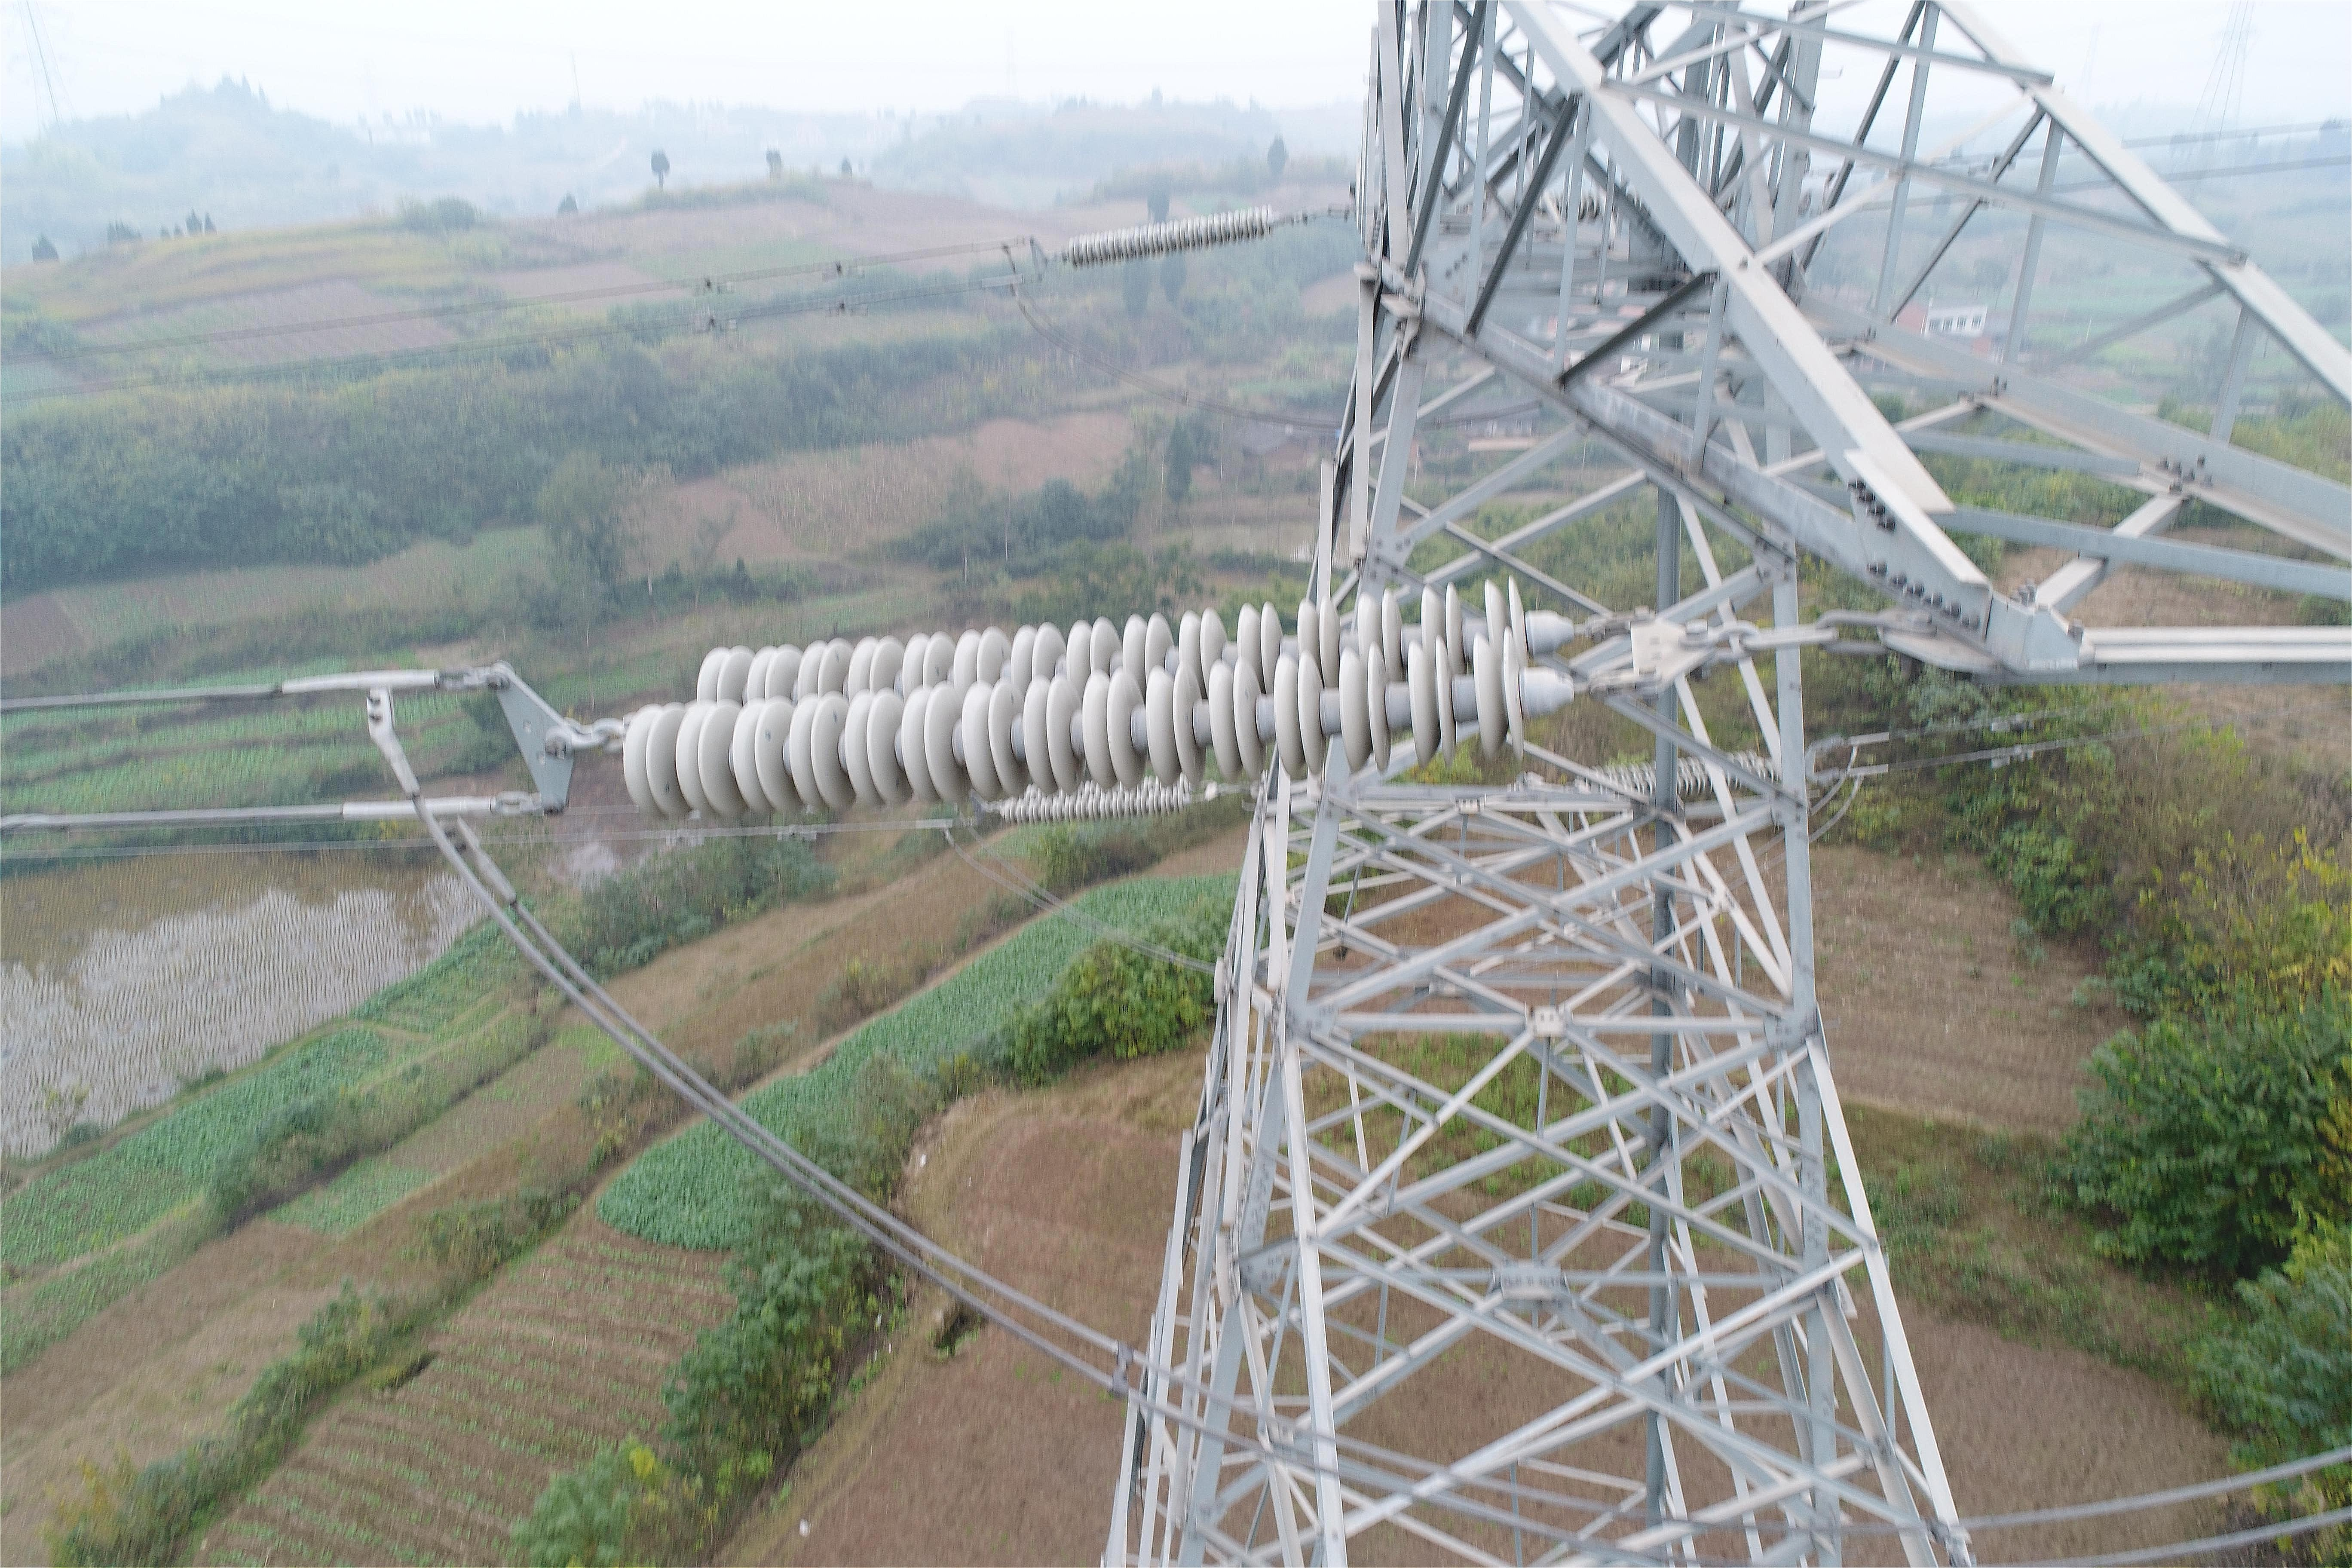insultor4: (616, 574, 1533, 821), (1066, 203, 1279, 268)
